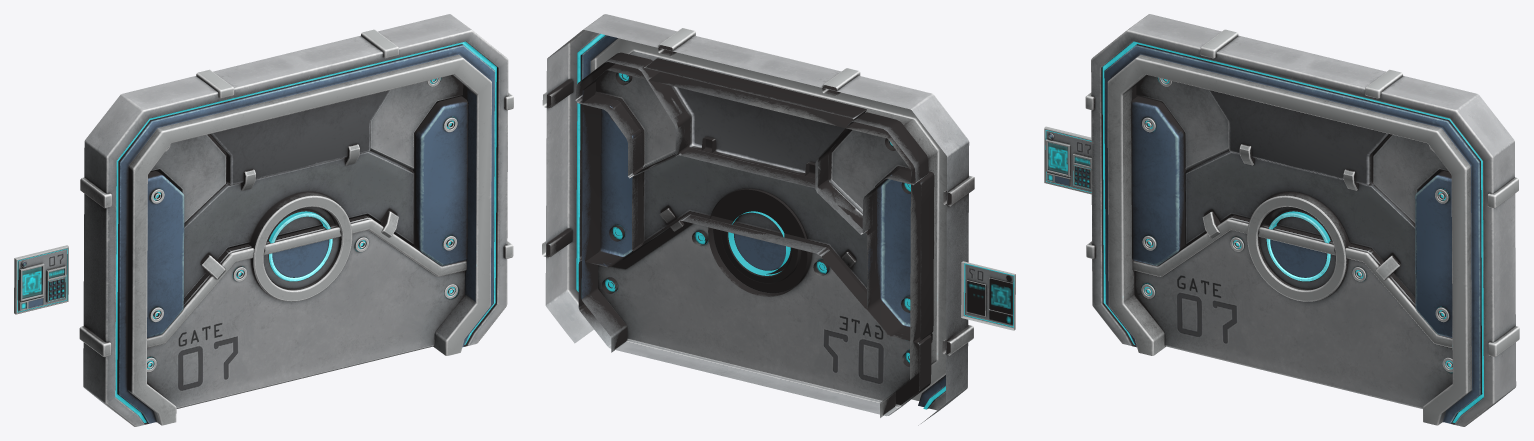
File: puerta.glb
The picture shows the model from 3 angles, left to right: view 1: azimuth 30°, elevation 25°; view 2: azimuth 150°, elevation 25°; view 3: azimuth 330°, elevation 25°; orthographic projection.
Parts seen in each view (by area): view 1: Object_9; view 2: Object_9; view 3: Object_9.
Boxes of the visible parts, x1,y1,x2,y2 form: Object_9: [14, 14, 513, 426]; Object_9: [542, 14, 1015, 425]; Object_9: [1044, 14, 1519, 426].
Bounding box in the file's own units: 4.72 × 3.04 × 0.5092.
Materials: 1 (1 with a texture image).
